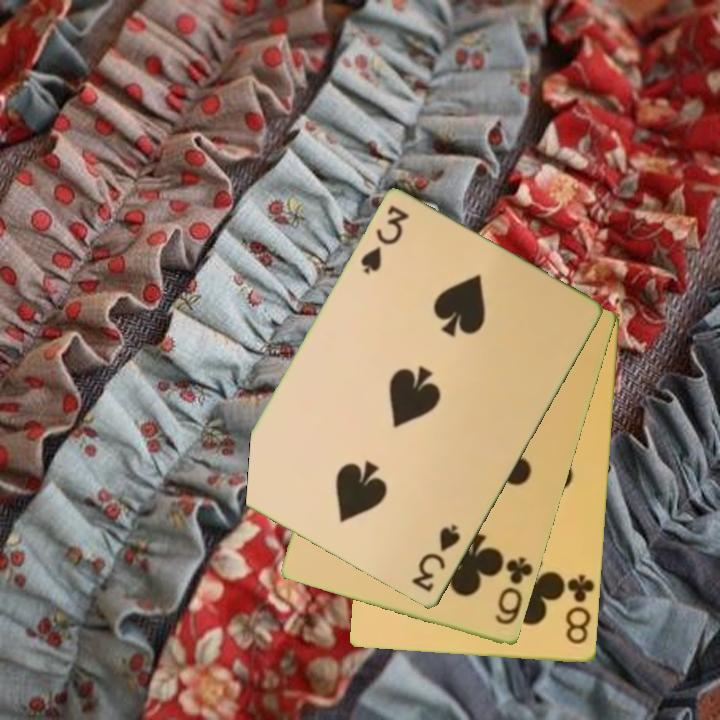3s: (408, 521, 464, 596), (357, 202, 412, 278)
6c: (492, 553, 536, 629)
8c: (562, 571, 598, 648)
